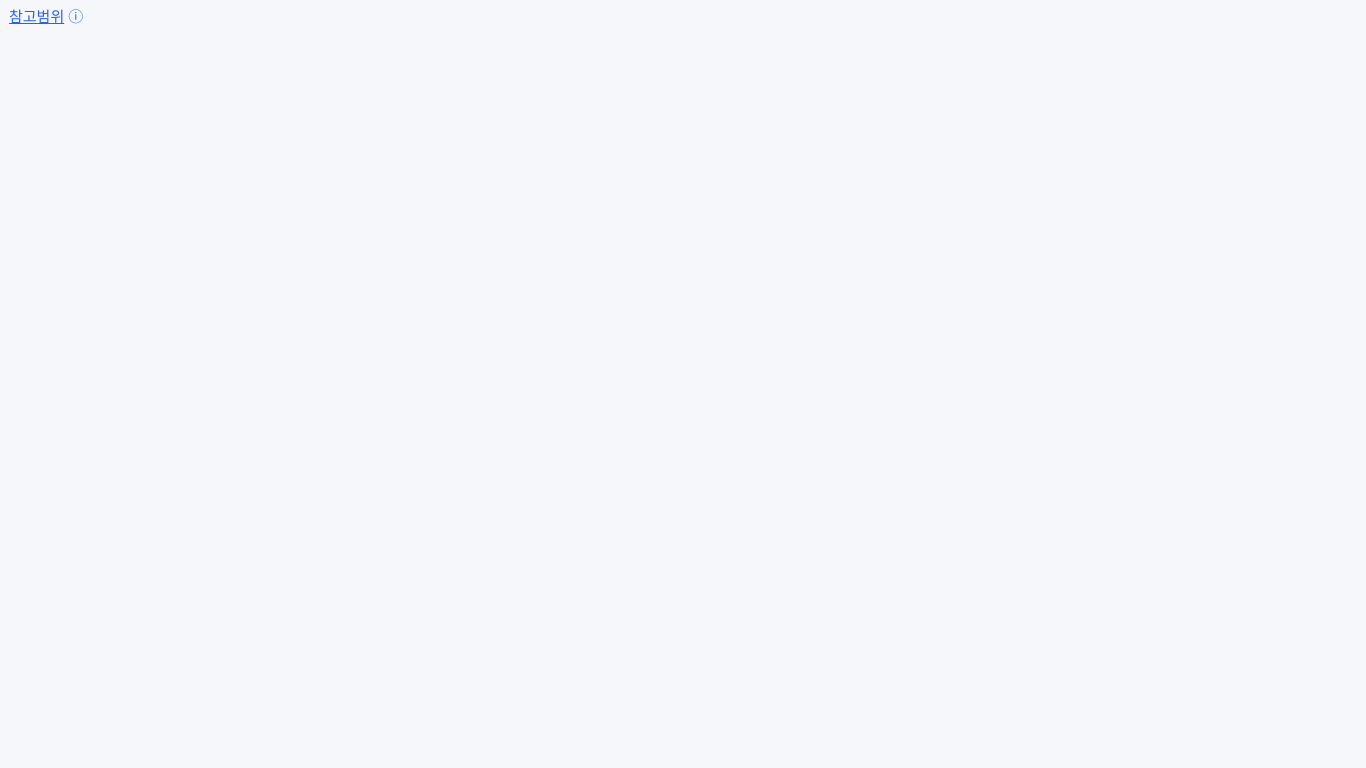
Test: MedicalTermDialog › has an explicit close button that closes the dialog and returns focus to the term button
Click the button "참고범위 ⓘ" at (46,17), box [0,0,92,33]
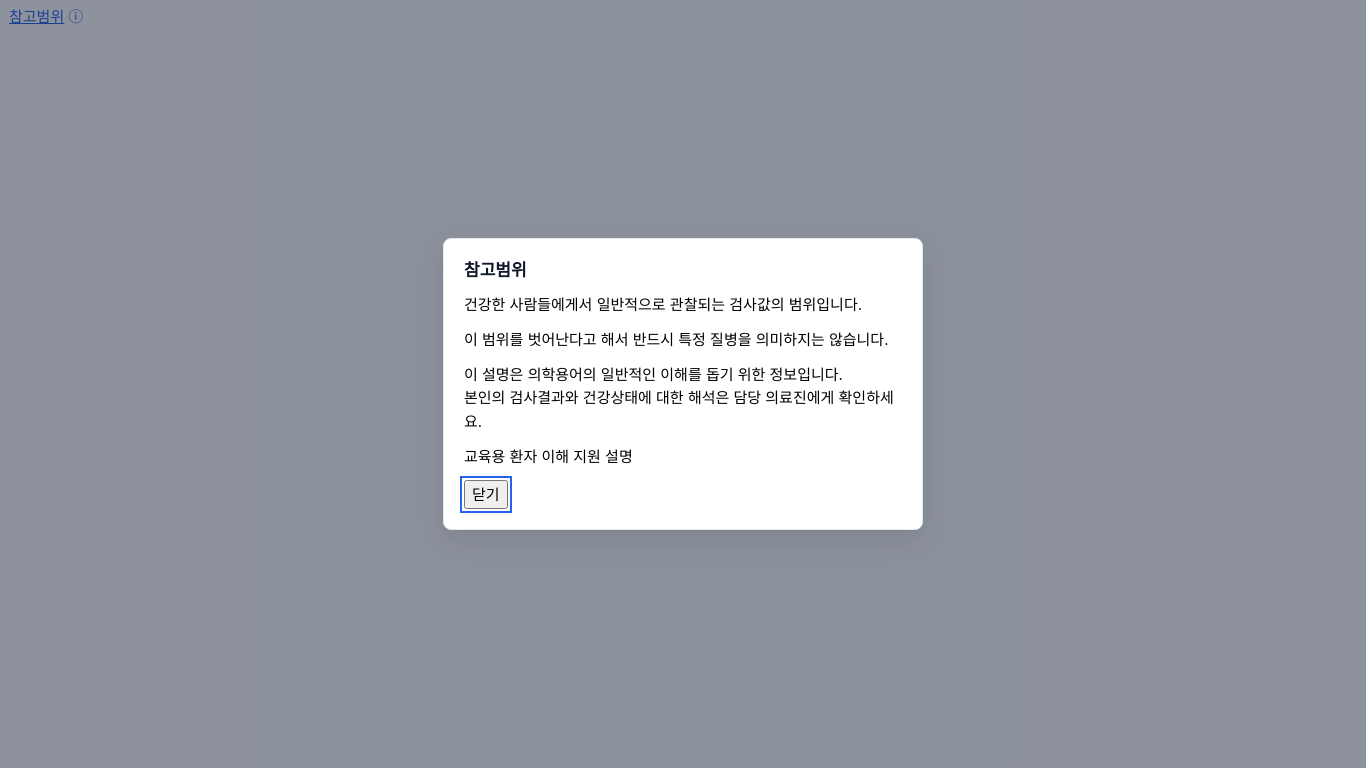
Click the button "닫기" at (486,495), box [464,480,508,510]
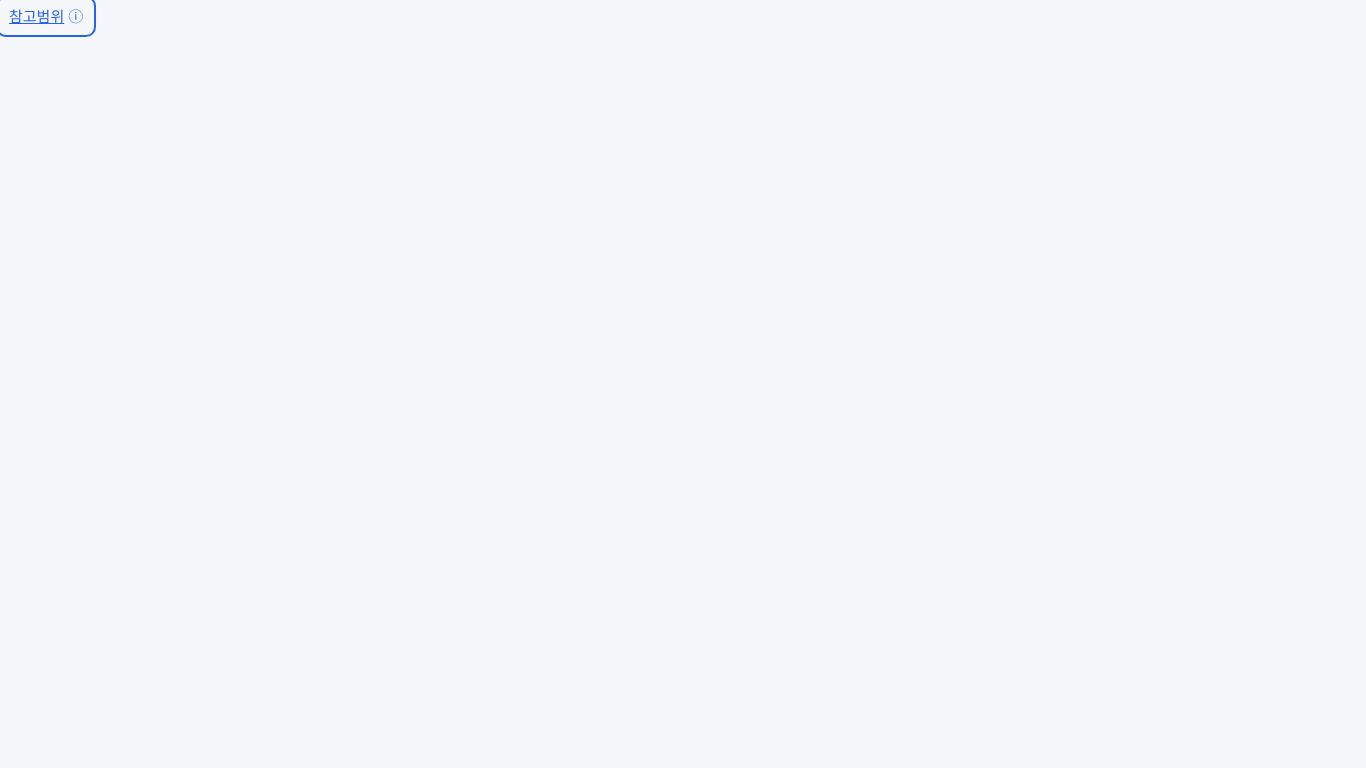
Now the dialog is gone
